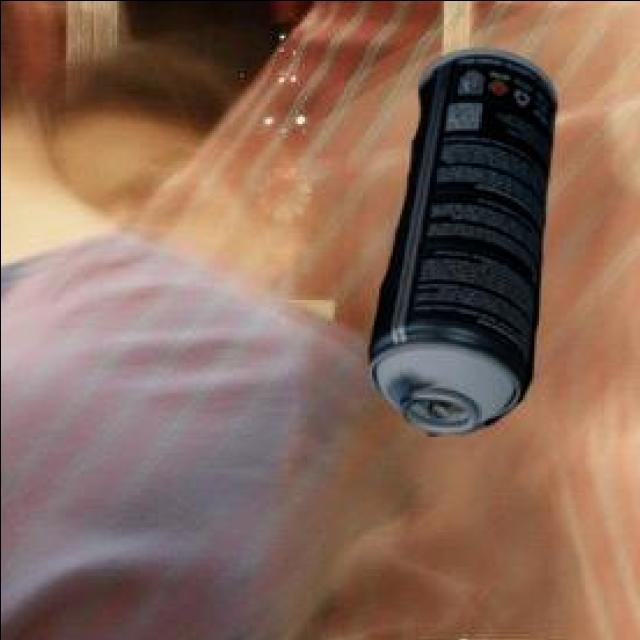logam: (365, 45, 551, 432)
